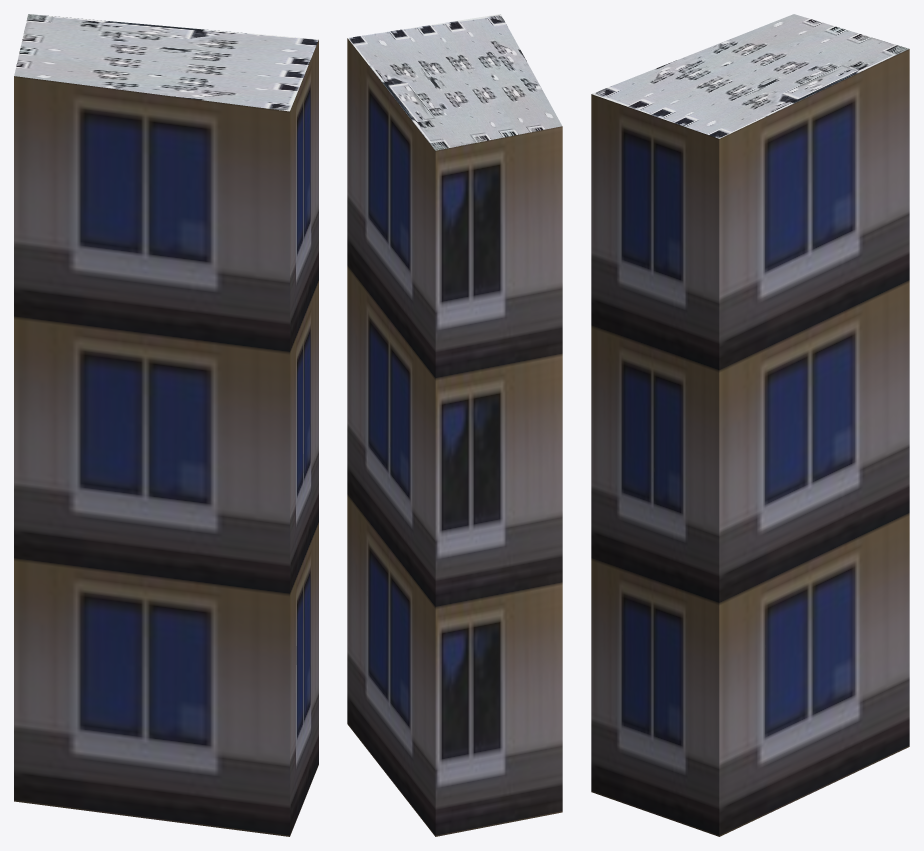
Rendered from ResTex__4914.fbx.
3 renders of one model, left to right at view 1: azimuth 30°, elevation 25°; view 2: azimuth 150°, elevation 25°; view 3: azimuth 270°, elevation 25°, orthographic. The views are drawn at different scales.
Parts seen in each view (by area): view 1: CityEngineMaterial_5_m, CityEngineMaterial_m; view 2: CityEngineMaterial_5_m, CityEngineMaterial_m; view 3: CityEngineMaterial_5_m, CityEngineMaterial_m.
Part boxes in pixels (box(x1,y1,x2,y2)): CityEngineMaterial_5_m: box(14, 40, 318, 836); CityEngineMaterial_m: box(14, 14, 318, 111); CityEngineMaterial_5_m: box(347, 38, 562, 836); CityEngineMaterial_m: box(347, 14, 561, 150); CityEngineMaterial_5_m: box(591, 49, 909, 836); CityEngineMaterial_m: box(592, 14, 909, 138).
Bounding box in the file's own units: 3.45 × 9 × 3.72.
Materials: 2 (2 with a texture image).
